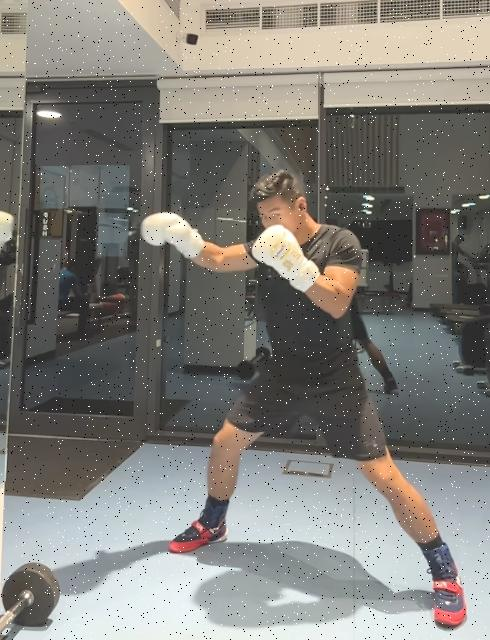punch: (136, 163, 470, 633)
